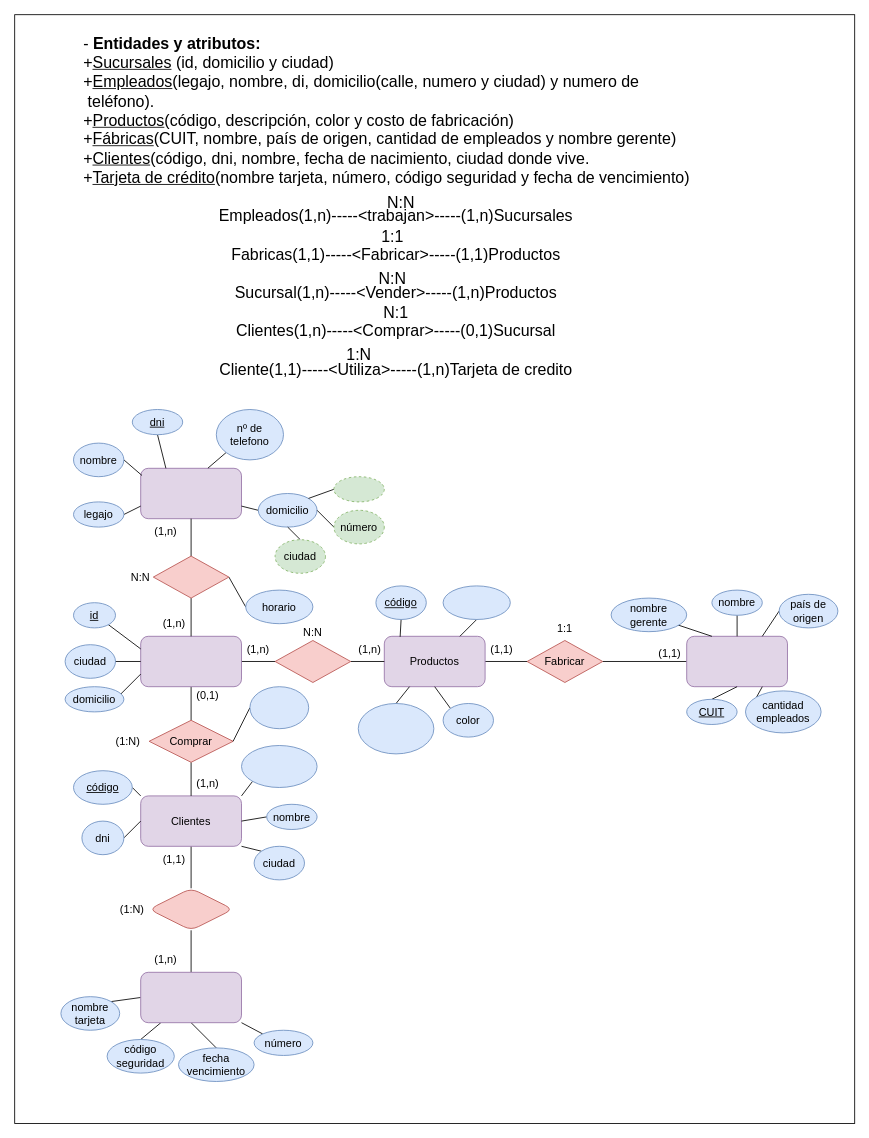
This 869x1138 diagram has some shape labels left out. The box of each missing label's shape, as (x1, y1, x2, y2) in pixels:
calle: (333, 476, 384, 502)
costo de fabricación: (357, 703, 434, 754)
descripción: (442, 585, 510, 620)
descuento: (249, 686, 309, 729)
Empleados: (140, 467, 242, 519)
Fabricas: (686, 635, 788, 687)
fecha de nacimiento: (241, 745, 317, 788)
Sucursales: (140, 635, 242, 687)
Tarjeta de crédito: (140, 971, 242, 1023)
Trabajar: (152, 555, 229, 598)
Utiliza: (148, 887, 233, 930)
Vender: (274, 640, 351, 682)
